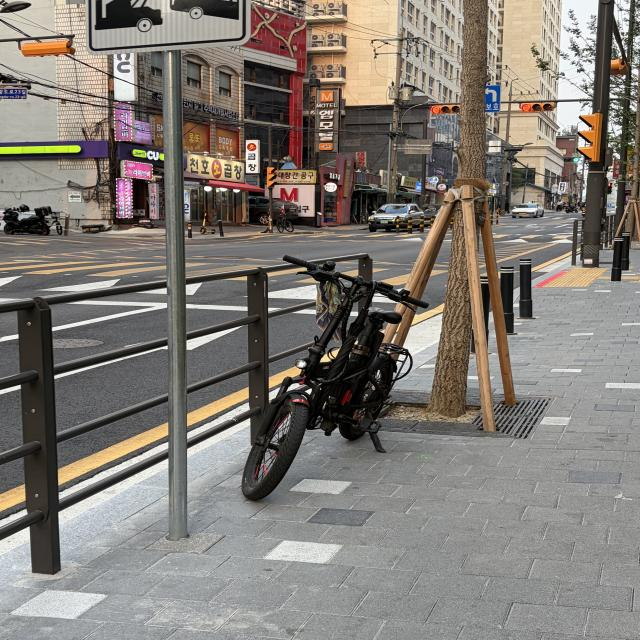bicycle: (227, 238, 438, 539)
